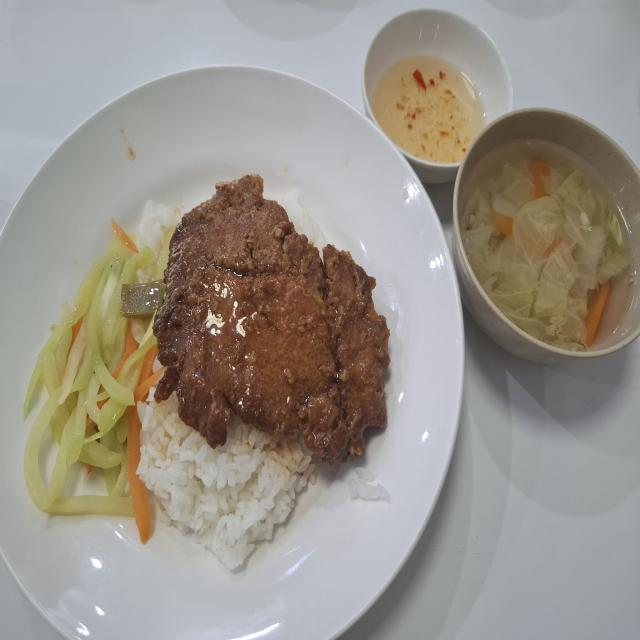canh cai: (460, 150, 634, 351)
com: (138, 394, 316, 569)
nuoc mam: (373, 56, 484, 164)
rau: (24, 223, 163, 543)
suon mieng: (153, 175, 390, 462)
